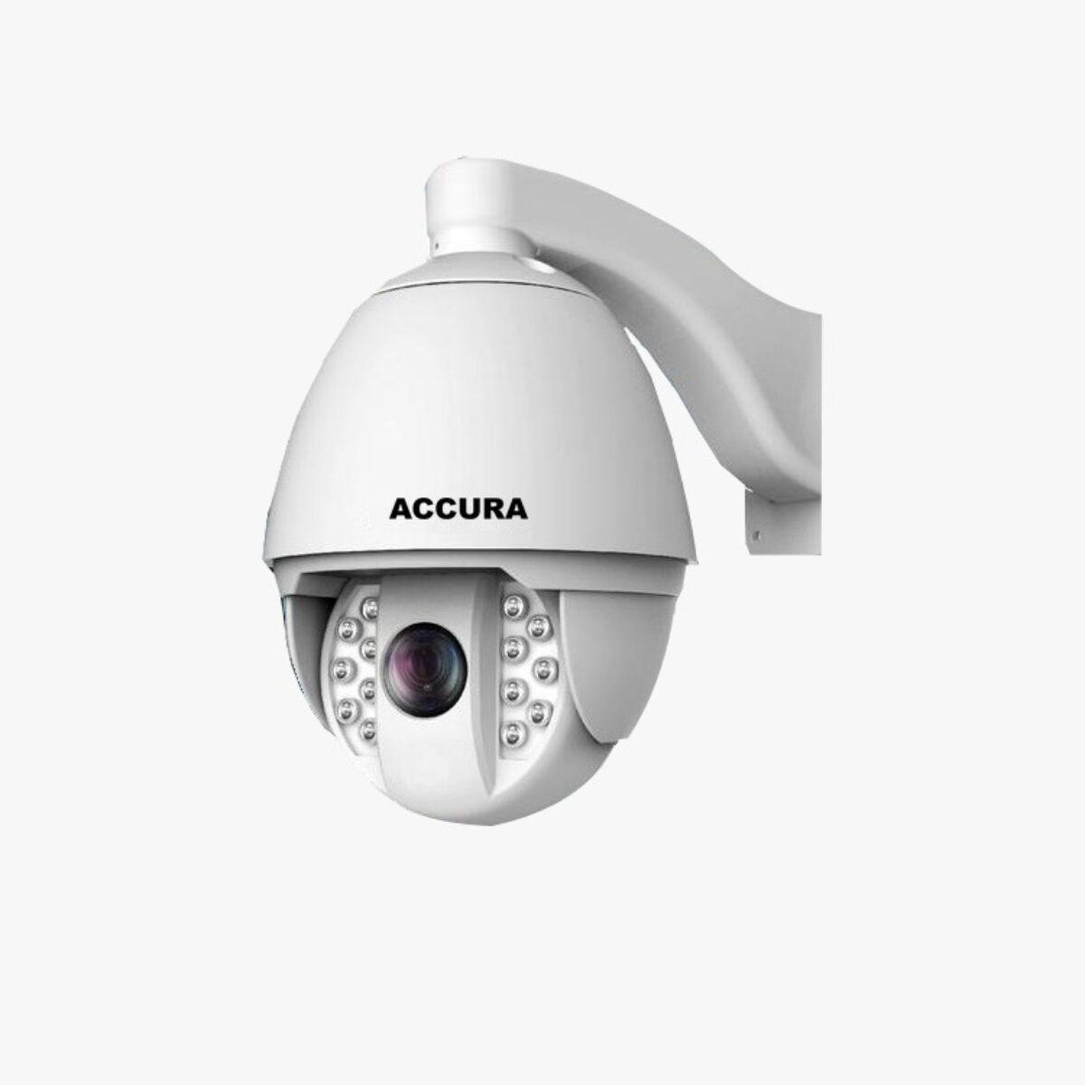CCTV: (263, 157, 823, 826)
